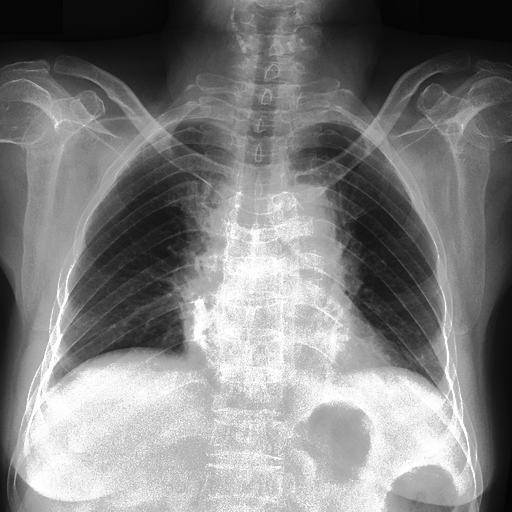Consolidation: (271, 187, 338, 275)
Nodule/Mass: (179, 322, 399, 376)
Other lesion: (186, 185, 340, 284)
Pleural thickening: (186, 185, 340, 284)
